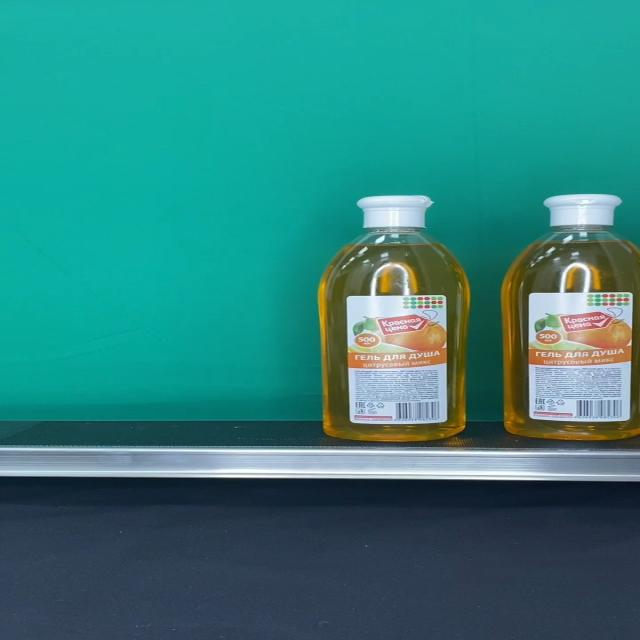Bottle: (319, 194, 470, 441), (499, 193, 640, 441)
Cap: (358, 194, 436, 228), (545, 194, 626, 226)
